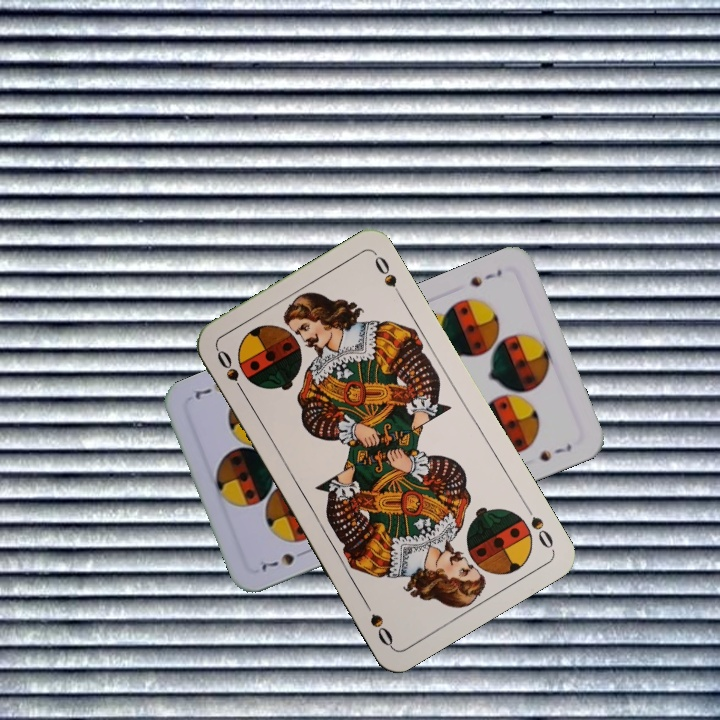S7: (257, 546, 311, 573), (465, 265, 505, 290)
SO: (212, 345, 249, 399), (519, 499, 556, 552)
